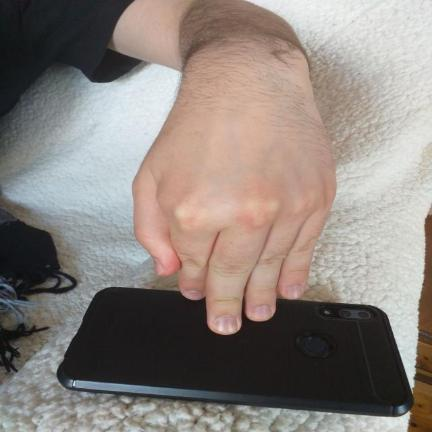Nail: (212, 314, 238, 334), (250, 304, 271, 320), (284, 285, 304, 298), (152, 258, 165, 276), (183, 290, 203, 300)
